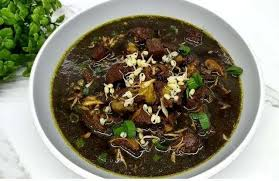Rawon: (53, 12, 241, 175)
